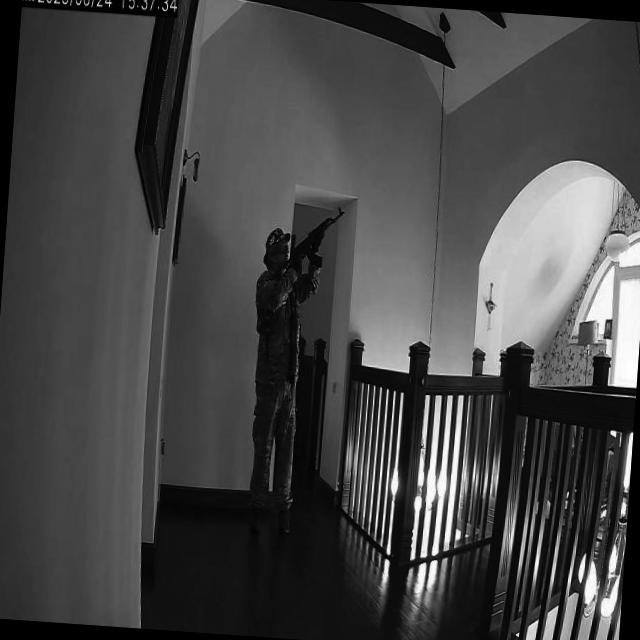gun: (284, 204, 346, 258)
person with a gun: (239, 204, 344, 540)
